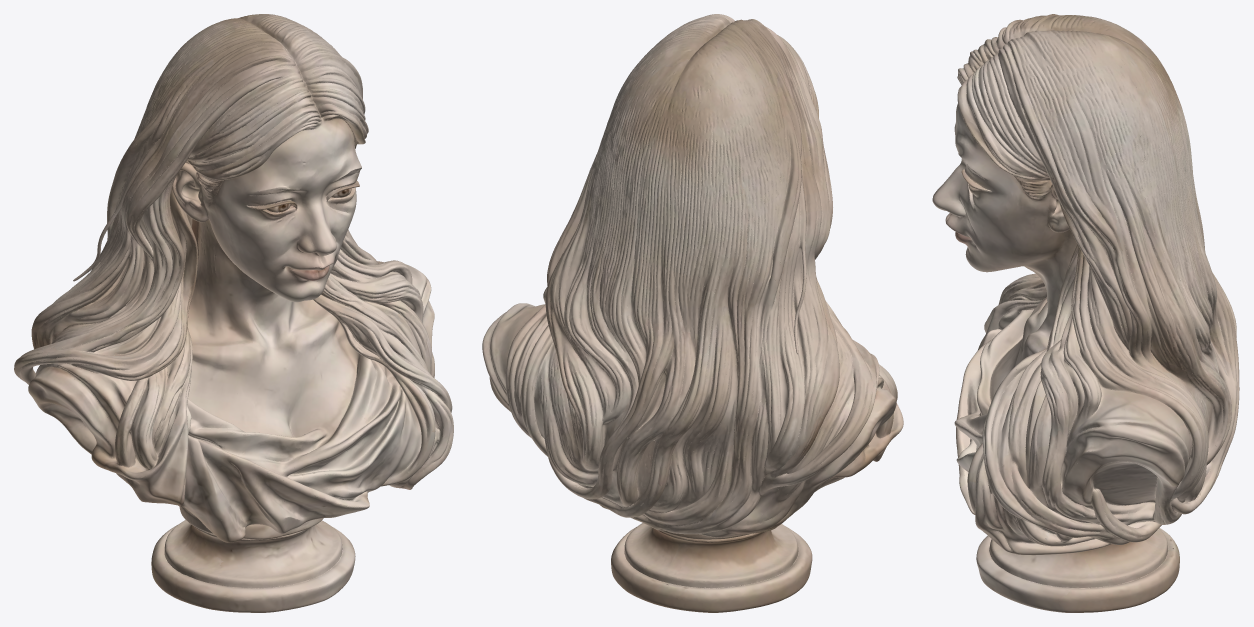
3 views of the same model, side by side, from view 1: azimuth 30°, elevation 25°; view 2: azimuth 150°, elevation 25°; view 3: azimuth 270°, elevation 25° (orthographic). The views are drawn at different scales.
Visible parts, largest first — view 1: model; view 2: model; view 3: model.
Boxes of the visible parts, x1,y1,x2,y2 form: model: [14, 14, 453, 612]; model: [482, 14, 903, 612]; model: [932, 14, 1239, 612].
Bounding box in the file's own units: 1.41 × 1.9 × 0.9635.
1 material, 1 textured.
